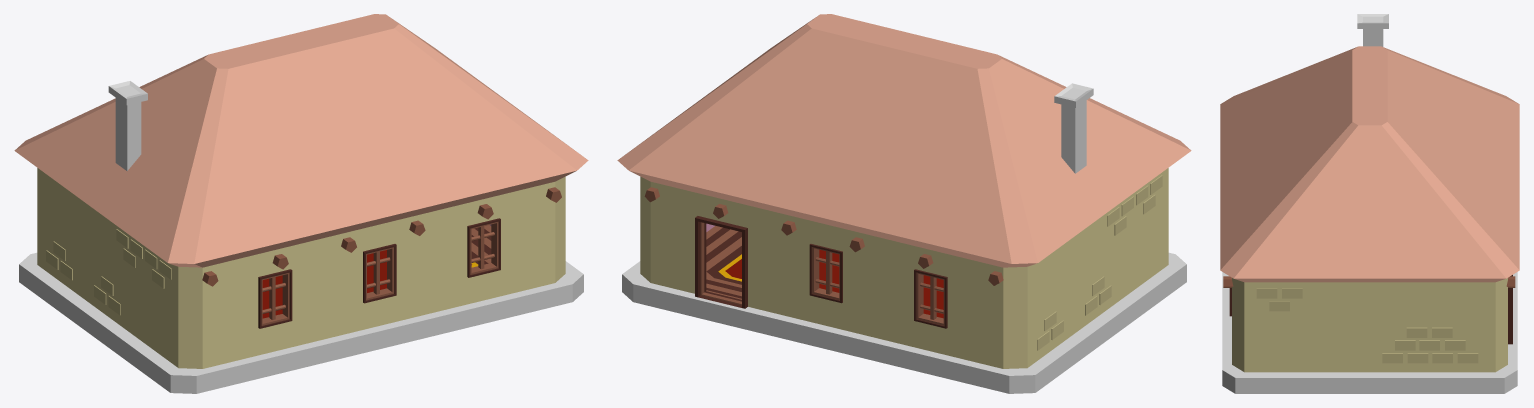
The model's file is House3.fbx.
3 renders of one model, left to right at view 1: azimuth 30°, elevation 25°; view 2: azimuth 150°, elevation 25°; view 3: azimuth 270°, elevation 25°, orthographic. The views are drawn at different scales.
Parts seen in each view (by area): view 1: House3; view 2: House3; view 3: House3.
Part boxes in pixels (x1=…): House3: x1=14, y1=14, x2=588, y2=393; House3: x1=617, y1=14, x2=1191, y2=393; House3: x1=1220, y1=14, x2=1519, y2=393.
Size of the model in its own units: 12.32 by 8.55 by 6.88.
